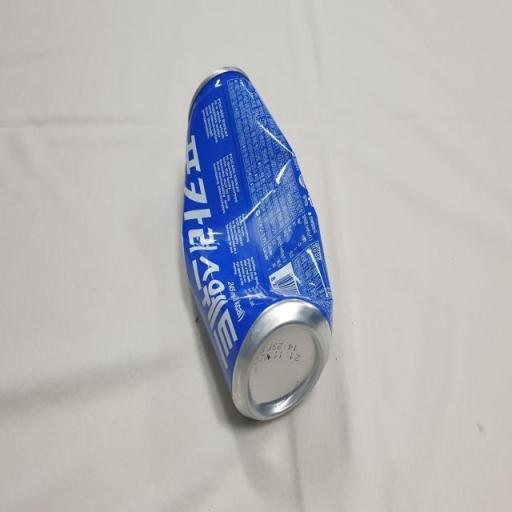metal: (172, 46, 342, 456)
